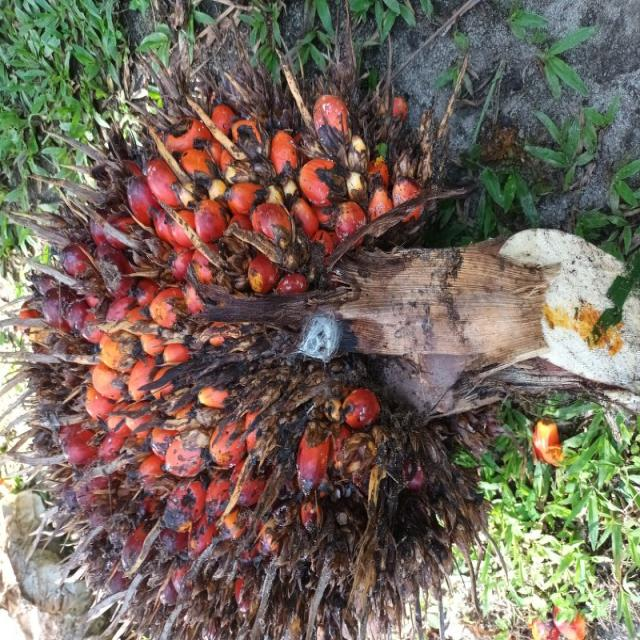fraksi 1: (0, 0, 416, 634)
